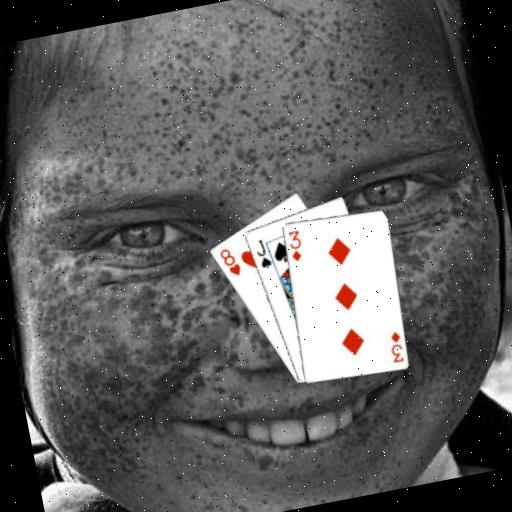3D: (283, 227, 306, 265), (384, 328, 406, 365)
8H: (215, 243, 243, 280)
JS: (251, 235, 274, 272)
